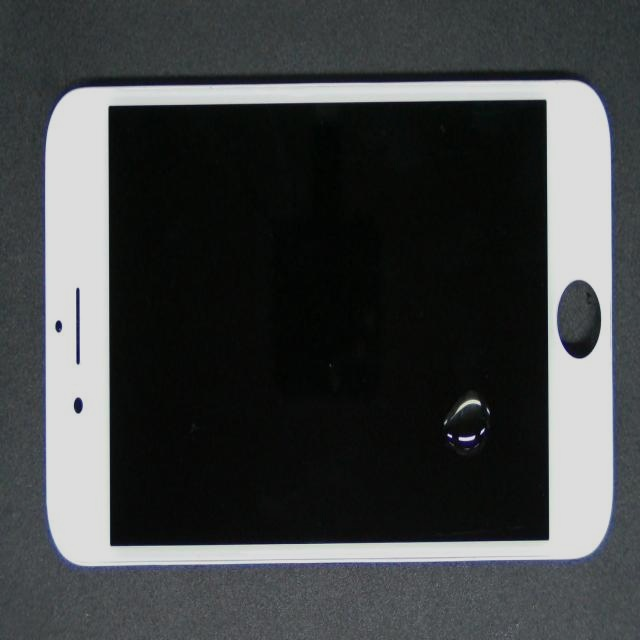oil: (254, 185, 640, 621)
